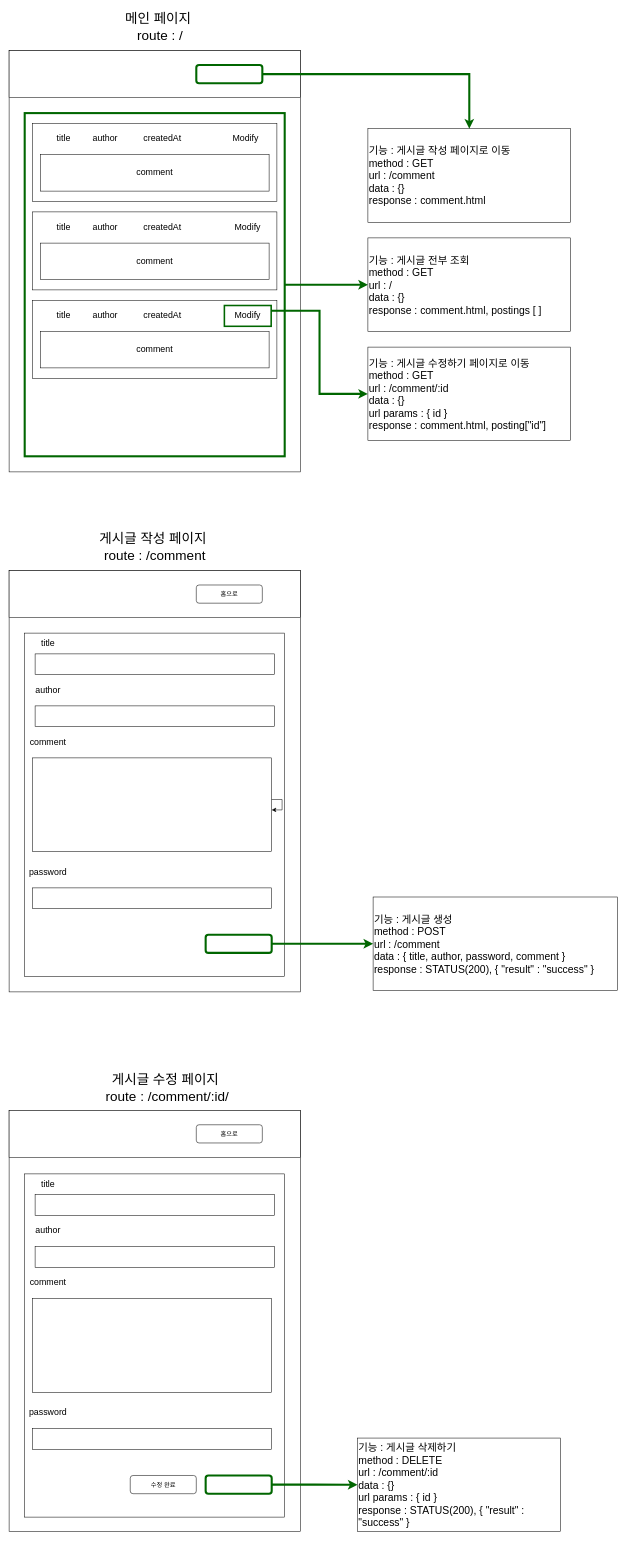
Image size: 627x1541. Some labels were removed from this diagram. The shapes that lost their labels are listed below. From the top down, each one's centre as x and y in pixels, then its label:
At point (229, 74): "게시글 작성".
At point (238, 943): "글쓰기".
At point (238, 1484): "삭제 하기".
